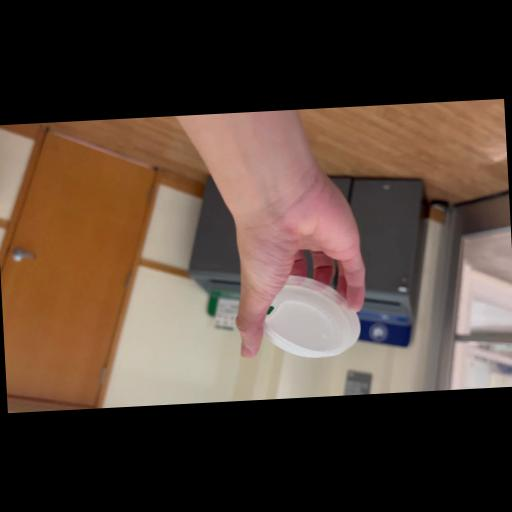lp_cup_lids: (246, 271, 365, 366)
